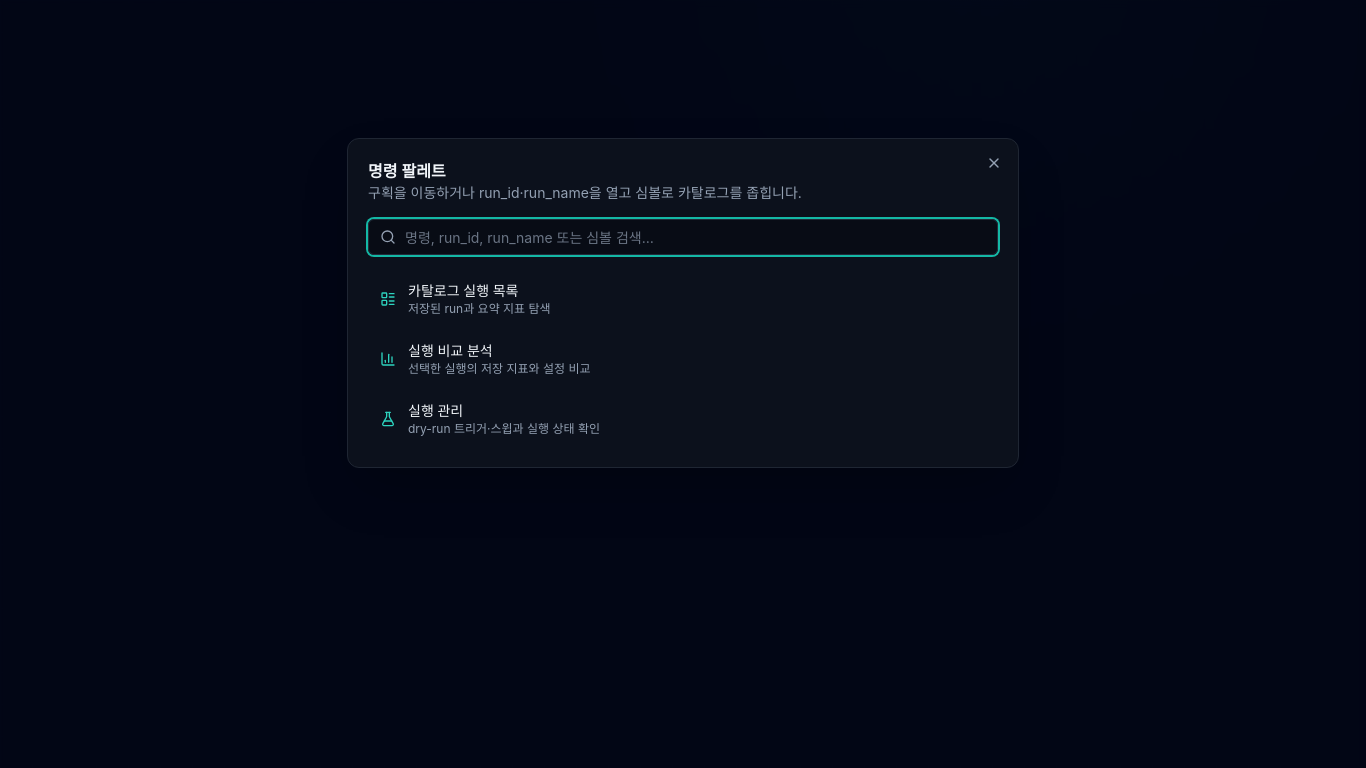
Test: 명령 팔레트 › 현재 라우트를 활성화하고 run_id·run_name 검색 결과를 연다
The image size is (1366, 768).
Expected: the button "실행 비교 분석 선택한 실행의 저장 지표와 설정 비교" is enabled, [368,331,998,387]
Expected: the button "실행 관리 dry-run 트리거·스윕과 실행 상태 확인" is enabled, [368,391,998,447]
Step 1. Type "alpha-breakout" into the field with placeholder "명령, run_id, run_name 또는 심볼 검색…" → (683, 237), box [368,219,998,255]
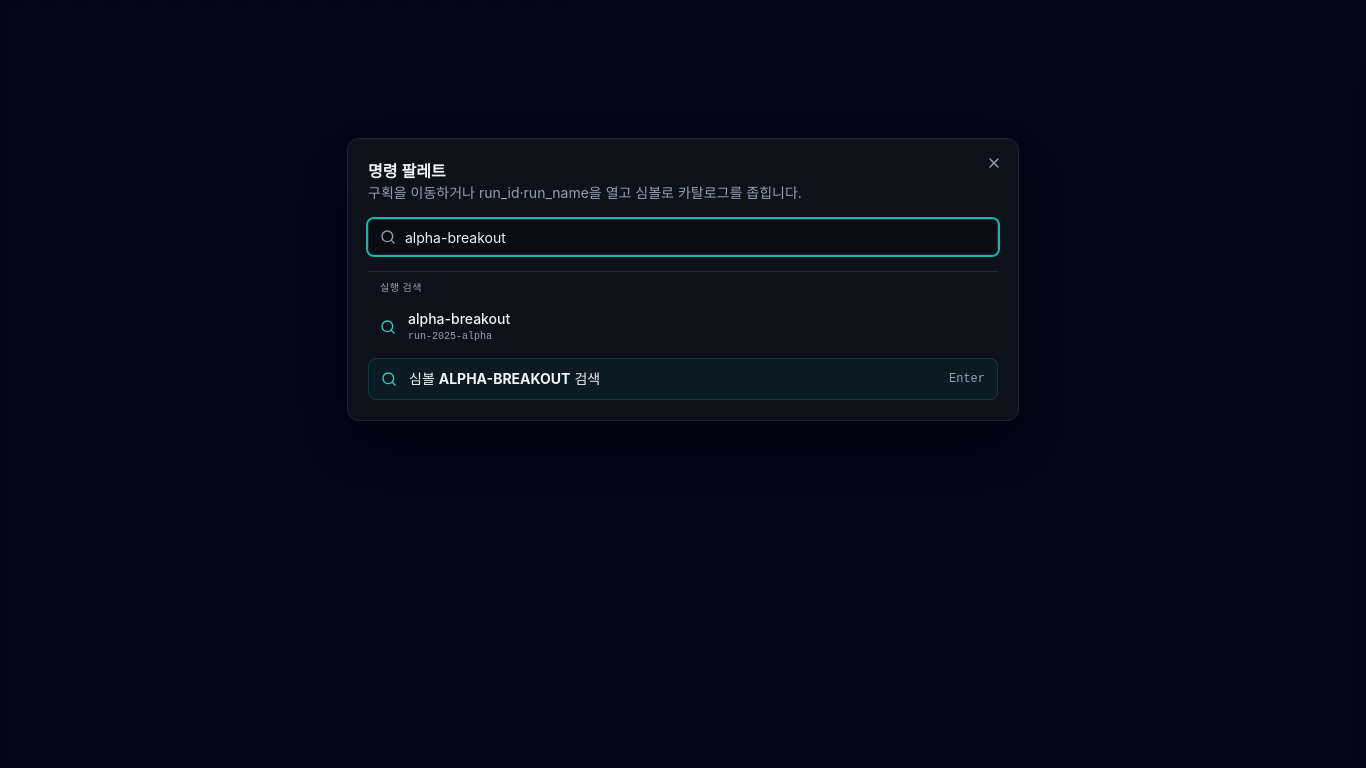
Expected: the button "alpha-breakout run-2025-alpha" is shown, [368,299,998,354]
